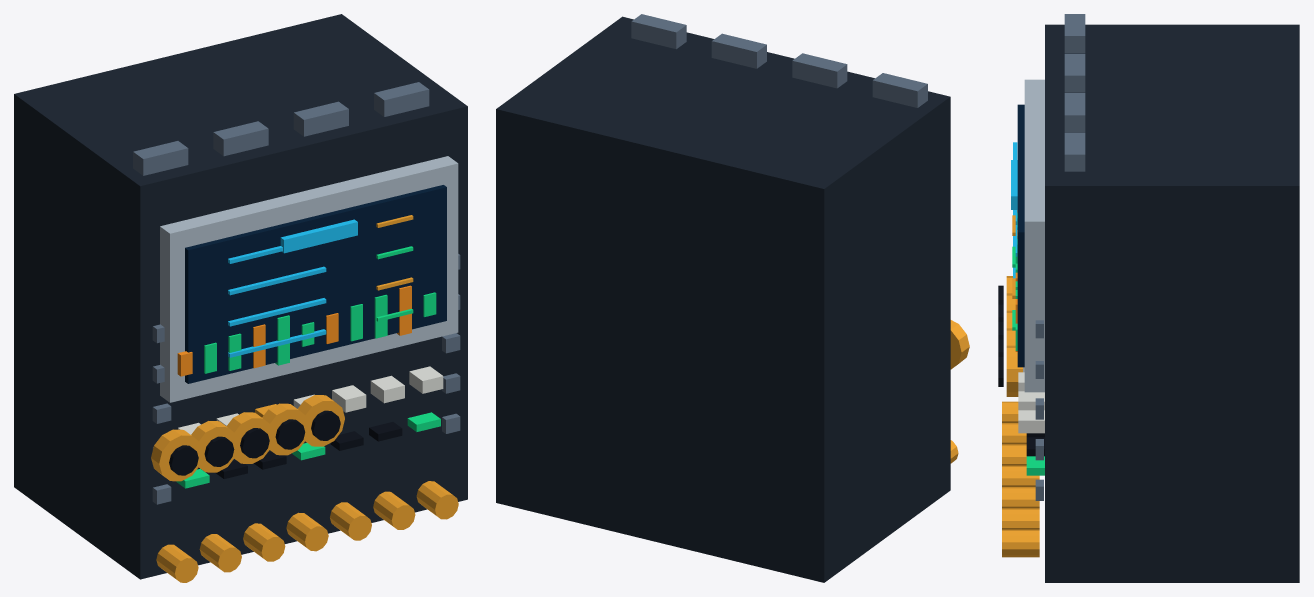
The model's file is 65_L87_RotaryPowerTransferMonitor.fbx.
3 views of the same model, side by side, from view 1: azimuth 30°, elevation 25°; view 2: azimuth 150°, elevation 25°; view 3: azimuth 270°, elevation 25° (orthographic).
Visible parts, largest first — view 1: L87_RotaryPowerTransferMonitor, L87_RotaryPowerTransferMonitor_Part_0009, L87_RotaryPowerTransferMonitor_Part_0012, L87_RotaryPowerTransferMonitor_Part_0011, L87_RotaryPowerTransferMonitor_Part_0013, L87_RotaryPowerTransferMonitor_Part_0010, L87_RotaryPowerTransferMonitor_Part_0021, L87_RotaryPowerTransferMonitor_Part_0017, L87_RotaryPowerTransferMonitor_Part_0015, L87_RotaryPowerTransferMonitor_Part_0019, L87_RotaryPowerTransferMonitor_Part_0020, L87_RotaryPowerTransferMonitor_Part_0014 (+3 smaller); view 2: L87_RotaryPowerTransferMonitor, L87_RotaryPowerTransferMonitor_Part_0009, L87_RotaryPowerTransferMonitor_Part_0013; view 3: L87_RotaryPowerTransferMonitor, L87_RotaryPowerTransferMonitor_Part_0009, L87_RotaryPowerTransferMonitor_Part_0021.
Boxes of the visible parts, <box> form: L87_RotaryPowerTransferMonitor: <box>14,14,467,582</box>; L87_RotaryPowerTransferMonitor_Part_0009: <box>133,82,429,175</box>; L87_RotaryPowerTransferMonitor_Part_0012: <box>204,292,436,373</box>; L87_RotaryPowerTransferMonitor_Part_0011: <box>177,285,411,376</box>; L87_RotaryPowerTransferMonitor_Part_0013: <box>151,429,202,481</box>; L87_RotaryPowerTransferMonitor_Part_0010: <box>280,219,357,253</box>; L87_RotaryPowerTransferMonitor_Part_0021: <box>298,395,344,446</box>; L87_RotaryPowerTransferMonitor_Part_0017: <box>226,412,273,463</box>; L87_RotaryPowerTransferMonitor_Part_0015: <box>191,421,237,472</box>; L87_RotaryPowerTransferMonitor_Part_0019: <box>262,403,307,455</box>; L87_RotaryPowerTransferMonitor_Part_0020: <box>275,419,305,449</box>; L87_RotaryPowerTransferMonitor_Part_0014: <box>169,445,198,475</box>; L87_RotaryPowerTransferMonitor: <box>496,16,958,582</box>; L87_RotaryPowerTransferMonitor_Part_0009: <box>631,14,927,107</box>; L87_RotaryPowerTransferMonitor_Part_0013: <box>950,320,969,369</box>; L87_RotaryPowerTransferMonitor: <box>1002,24,1299,582</box>; L87_RotaryPowerTransferMonitor_Part_0009: <box>1064,14,1085,171</box>; L87_RotaryPowerTransferMonitor_Part_0021: <box>1006,345,1022,396</box>.
Size of the model in its own units: 96.95 by 116 by 76.5.
